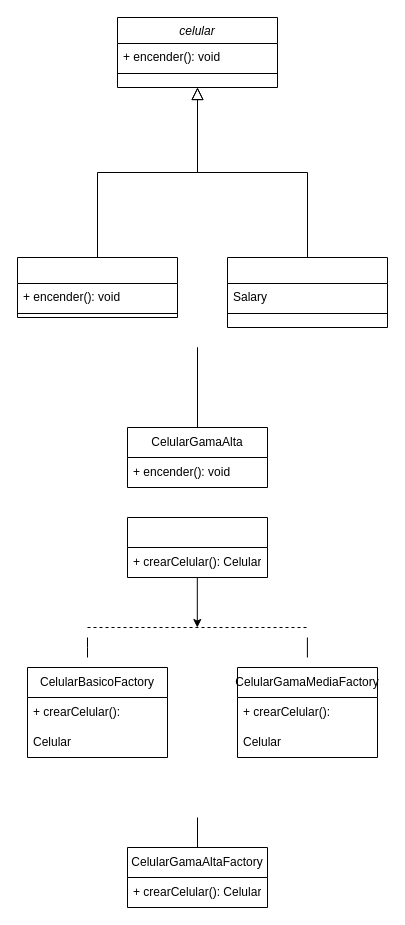
Image size: 405x925. Some labels were removed from this diagram. The box of each missing label's shape, as (x1, y1, x2, y2) in pixels:
CelularBasico: (16, 256, 178, 318)
CelularFactory: (126, 516, 268, 578)
CelularGamaMedia: (226, 256, 388, 328)
